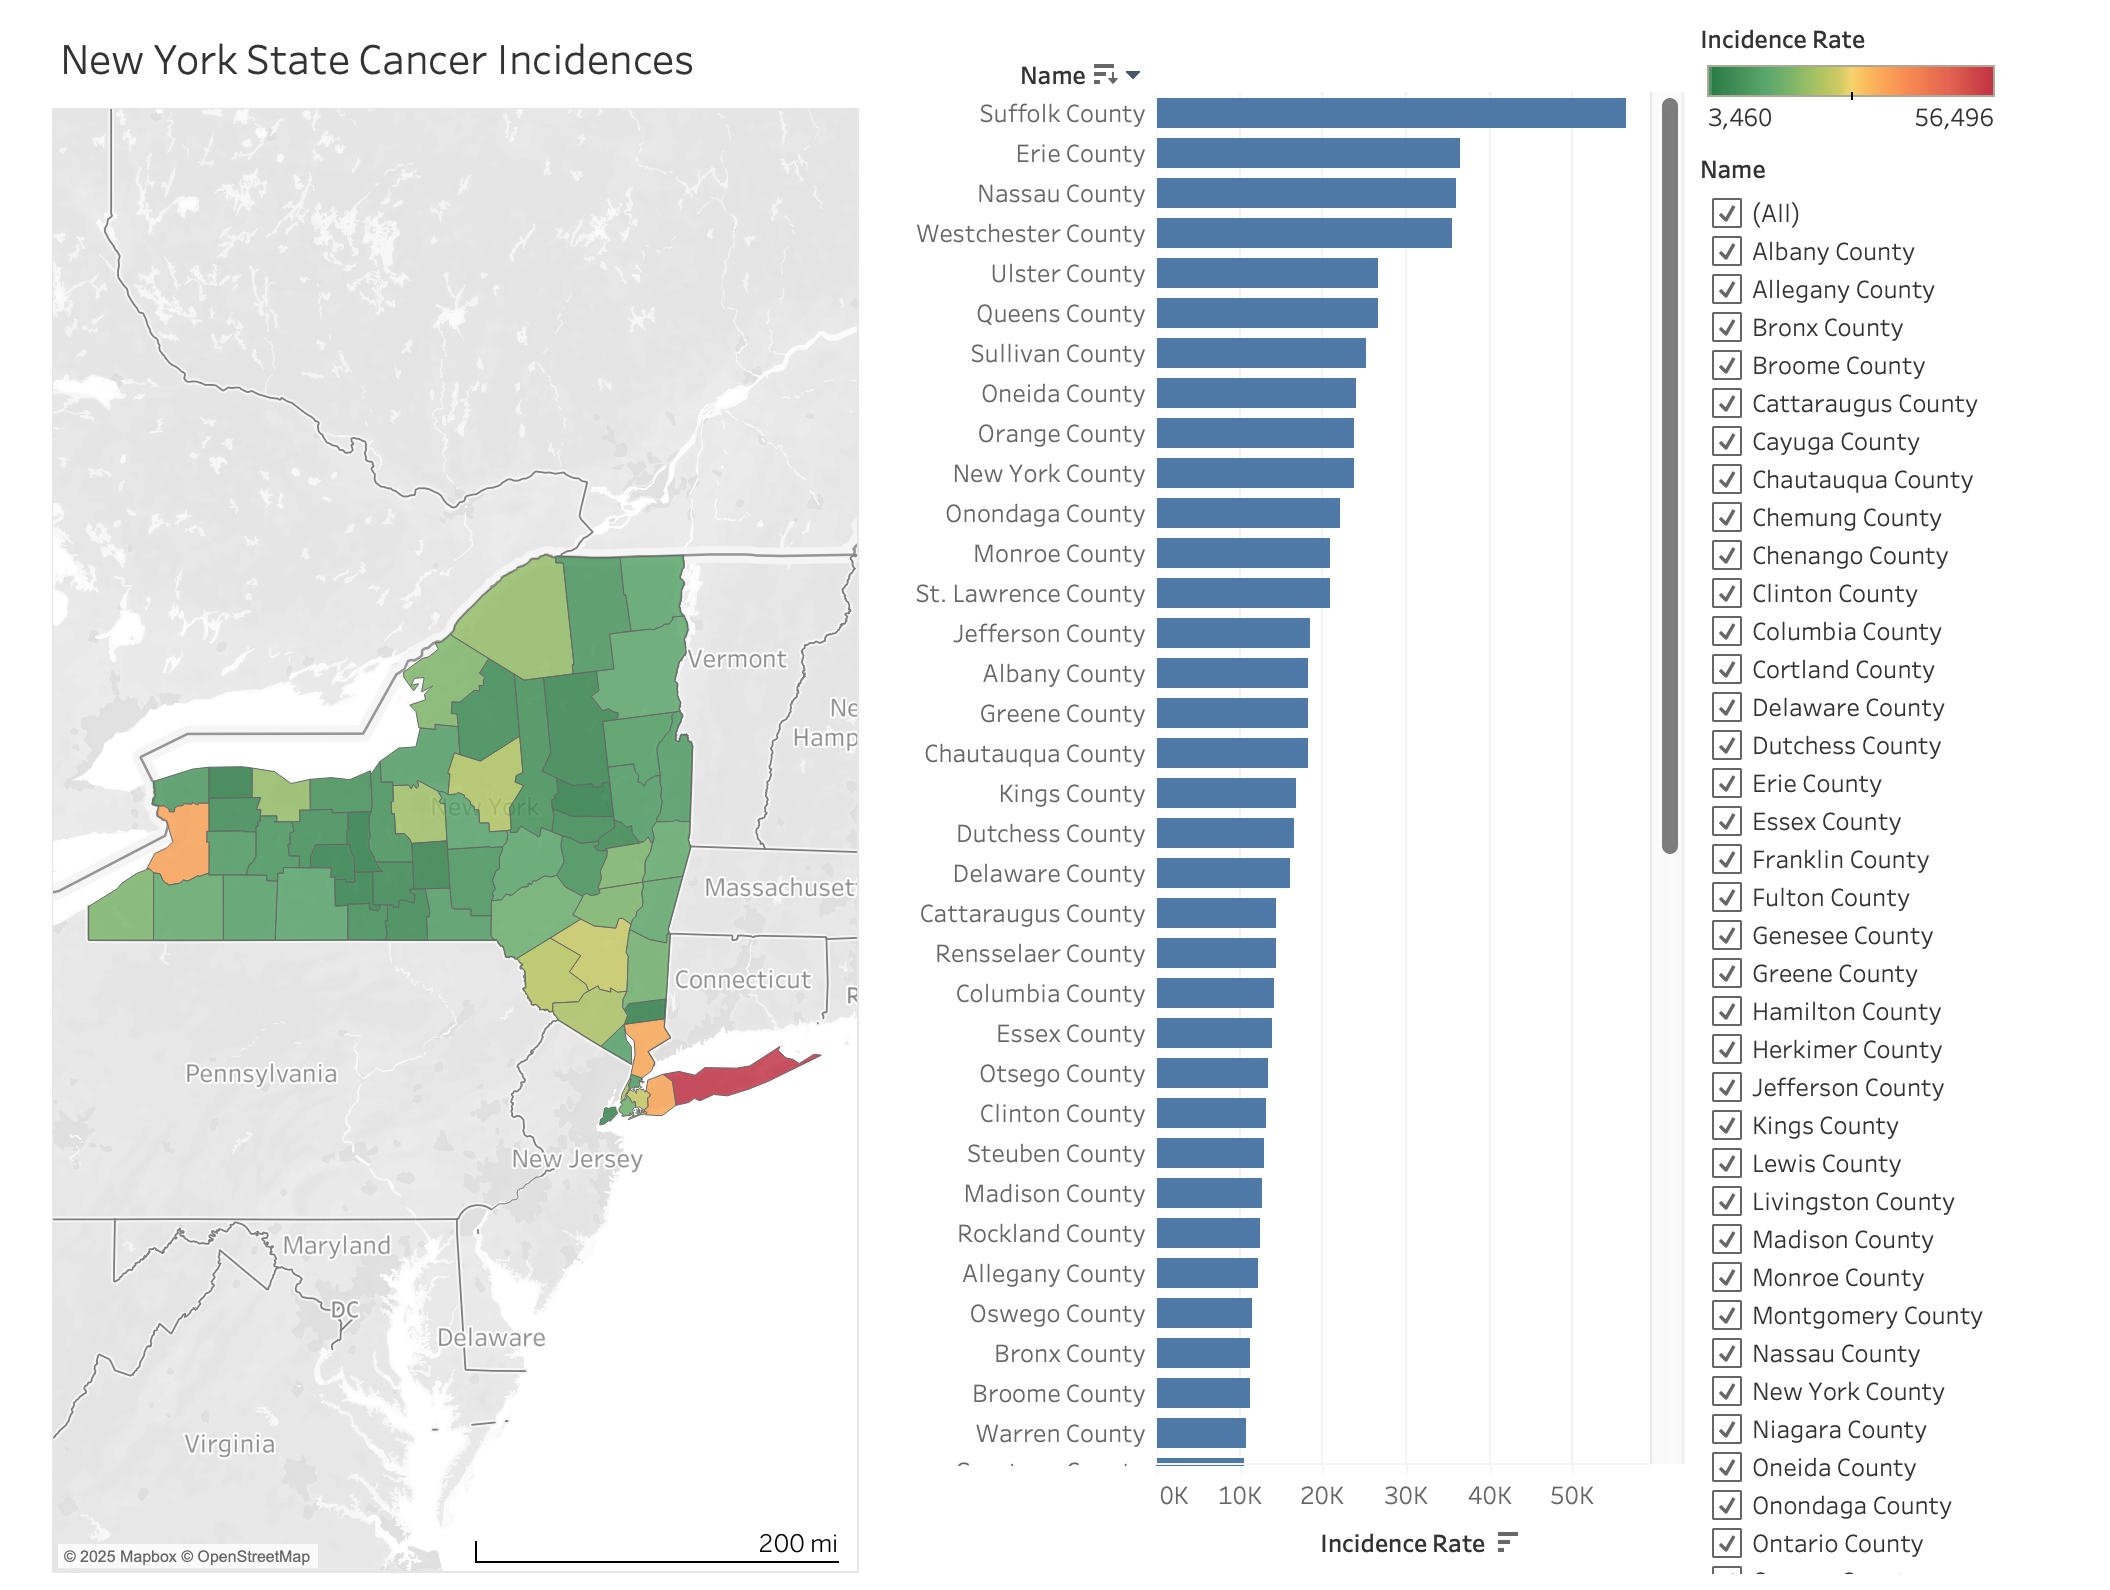

This screenshot's page, from the dashboard's own definition file:
{"tool":"tableau","page":{"name":"New York State","canvas":[1000,800],"ordinal":6},"visuals":[{"type":"worksheet","title":"New York State Cancer Incidences with Hospitals","mark":"Multipolygon","box":[8,8,412,784]},{"type":"worksheet","title":"New York State Cancer Incidences by County","mark":"Automatic","rows":["Name"],"cols":["incidenceRate"],"box":[420,8,412,784]},{"type":"legend","title":"New York State Cancer Incidences with Hospitals","param":"[federated.04o36gq1rfu74516y9lqn1qlyah2].[sum:incidenceRate:qk]","box":[832,8,160,65]},{"type":"filter","title":"New York State Cancer Incidences with Hospitals","param":"[federated.04o36gq1rfu74516y9lqn1qlyah2].[none:Name:nk]","box":[832,73,160,719]}]}

Visuals, with their boxes on the page's 1000x800 design canvas (x1, y1, x2, y2). These are canvas units, not pixel positions in the 2110x1590 screenshot, which may show the page scaled, cropped or inside an application window:
"New York State Cancer Incidences with Hospitals" worksheet (Multipolygon marks): box=[8, 8, 420, 792]
"New York State Cancer Incidences by County" worksheet: box=[420, 8, 832, 792]
"New York State Cancer Incidences with Hospitals" legend: box=[832, 8, 992, 73]
"New York State Cancer Incidences with Hospitals" filter: box=[832, 73, 992, 792]
